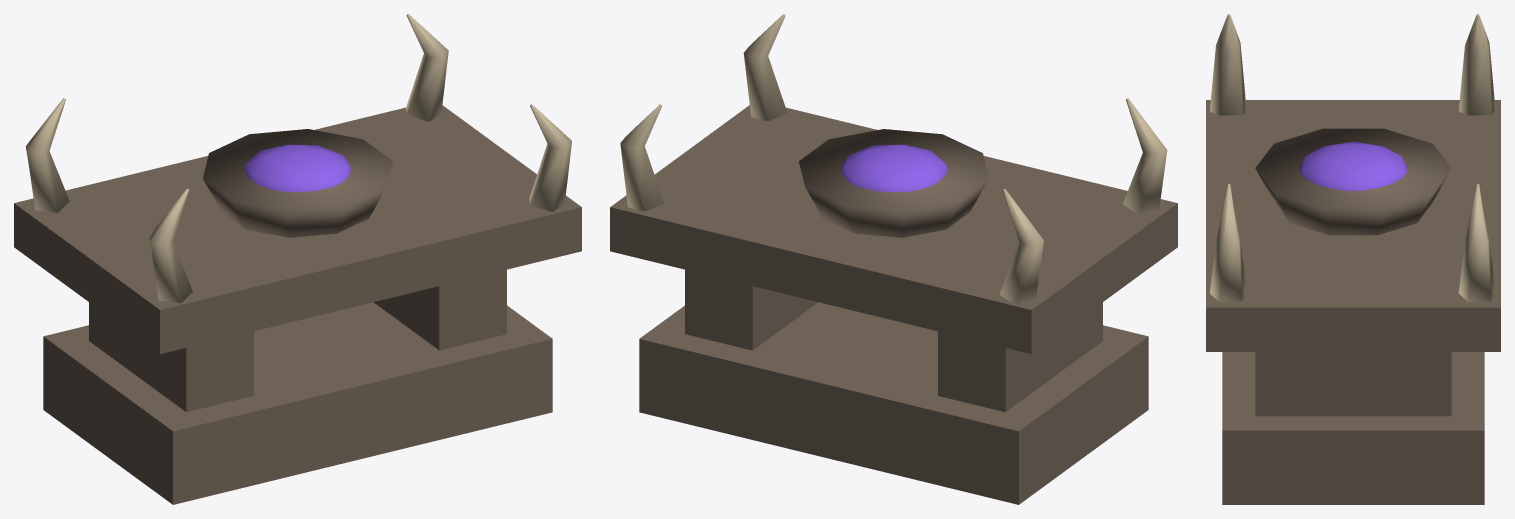
Rendered from eternia_crystal_stand_v0.glb.
3 renders of one model, left to right at view 1: azimuth 30°, elevation 25°; view 2: azimuth 150°, elevation 25°; view 3: azimuth 270°, elevation 25°, orthographic.
Visible parts, largest first — view 1: eternia_crystal_stand_v0; view 2: eternia_crystal_stand_v0; view 3: eternia_crystal_stand_v0.
Boxes of the visible parts, x1=… form: eternia_crystal_stand_v0: x1=14, y1=14, x2=581, y2=504; eternia_crystal_stand_v0: x1=610, y1=14, x2=1177, y2=504; eternia_crystal_stand_v0: x1=1206, y1=14, x2=1500, y2=504.
Size of the model in its own units: 1.5 by 1.05 by 0.9.
